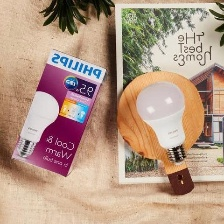book: (113, 0, 223, 190)
carton: (7, 43, 109, 182)
light_bulb: (135, 81, 194, 166)
